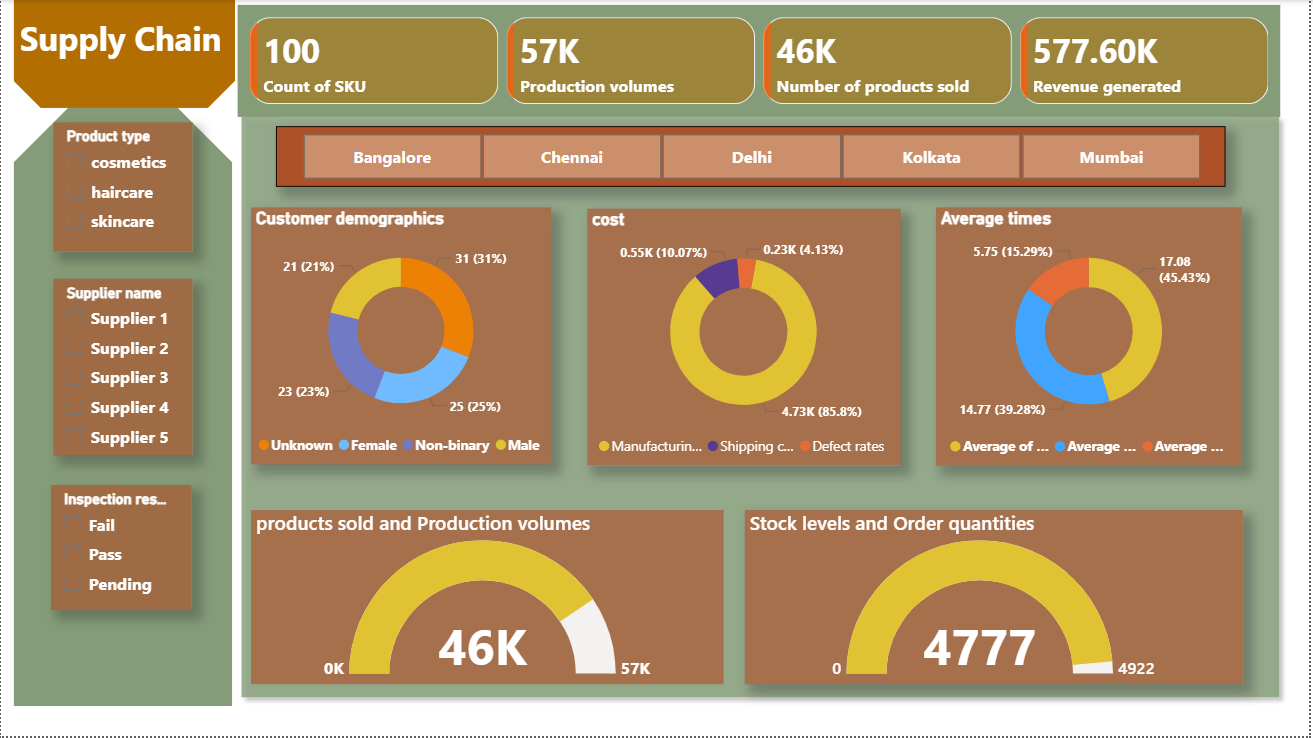

The dashboard page shown, as its layout file describes it:
{"tool":"powerbi","page":{"name":"Page 1","canvas":[1280,720],"ordinal":0},"visuals":[{"type":"shape","box":[12.3,105.7,214.1,585.9],"z":0},{"type":"shape","box":[12.3,0,216.8,105.7],"z":1000},{"type":"textbox","box":[13.7,11,212.7,63.1],"z":2000},{"type":"cardVisual","fields":{"Data":["CountNonNull(supply_chain_data.SKU)","Sum(supply_chain_data.Production volumes)","Sum(supply_chain_data.Number of products sold)","Sum(supply_chain_data.Revenue generated)"]},"box":[207.2,0,1073.1,119.4],"z":3000},{"type":"slicer","fields":{"Values":["supply_chain_data.Product type"]},"box":[50.8,119.4,135.8,126.2],"z":4000},{"type":"slicer","fields":{"Values":["supply_chain_data.Supplier name"]},"box":[50.8,273.1,135.8,172.9],"z":5000},{"type":"slicer","fields":{"Values":["supply_chain_data.Inspection results"]},"box":[49.4,474.8,137.2,122.1],"z":6000},{"type":"shape","box":[226.4,105.7,1033.3,585.9],"z":7000},{"type":"slicer","fields":{"Values":["supply_chain_data.Location"]},"box":[269,123.5,929,59],"z":8000},{"type":"donutChart","title":"Customer demographics","fields":{"Category":["supply_chain_data.Customer demographics"],"Y":["CountNonNull(supply_chain_data.SKU)"]},"box":[244.3,203.1,293.7,251.1],"z":9000},{"type":"donutChart","title":"cost","fields":{"Y":["Sum(supply_chain_data.Manufacturing costs)","Sum(supply_chain_data.Shipping costs)","Sum(supply_chain_data.Defect rates)"]},"box":[573.6,204.5,306,251.1],"z":10000},{"type":"gauge","title":"products sold and Production volumes","fields":{"Y":["Sum(supply_chain_data.Number of products sold)"],"MaxValue":["Sum(supply_chain_data.Production volumes)"]},"box":[244.3,499.5,462.4,170.2],"z":11000},{"type":"gauge","title":"Stock levels and Order quantities","fields":{"Y":["Sum(supply_chain_data.Stock levels)"],"MaxValue":["Sum(supply_chain_data.Order quantities)"]},"box":[727.3,499.5,487.1,170.2],"z":12000},{"type":"donutChart","title":"Average times","fields":{"Y":["Avg(supply_chain_data.Lead time)","Avg(supply_chain_data.Manufacturing lead time)","Avg(supply_chain_data.Shipping times)"]},"box":[915.3,203.1,299.1,252.5],"z":13000}]}

Visuals, with their boxes in screenshot pixels (x1, y1, x2, y2), scaled from the page's 1280x720 canvas onto the 1313x738 screenshot:
shape: [left=13, top=108, right=232, bottom=709]
shape: [left=13, top=0, right=235, bottom=108]
textbox: [left=14, top=11, right=232, bottom=76]
cardVisual - CountNonNull(supply_chain_data.SKU) x Sum(supply_chain_data.Production volumes): [left=213, top=0, right=1312, bottom=122]
slicer - supply_chain_data.Product type: [left=52, top=122, right=191, bottom=252]
slicer - supply_chain_data.Supplier name: [left=52, top=280, right=191, bottom=457]
slicer - supply_chain_data.Inspection results: [left=51, top=487, right=191, bottom=612]
shape: [left=232, top=108, right=1292, bottom=709]
slicer - supply_chain_data.Location: [left=276, top=127, right=1229, bottom=187]
"Customer demographics" donutChart: [left=251, top=208, right=552, bottom=466]
"cost" donutChart: [left=588, top=210, right=902, bottom=467]
"products sold and Production volumes" gauge: [left=251, top=512, right=725, bottom=686]
"Stock levels and Order quantities" gauge: [left=746, top=512, right=1246, bottom=686]
"Average times" donutChart: [left=939, top=208, right=1246, bottom=467]
